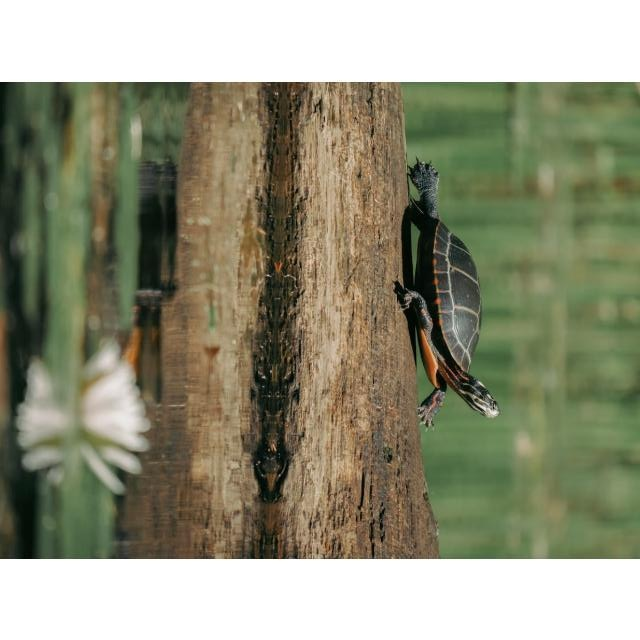turtle: (398, 157, 501, 432)
